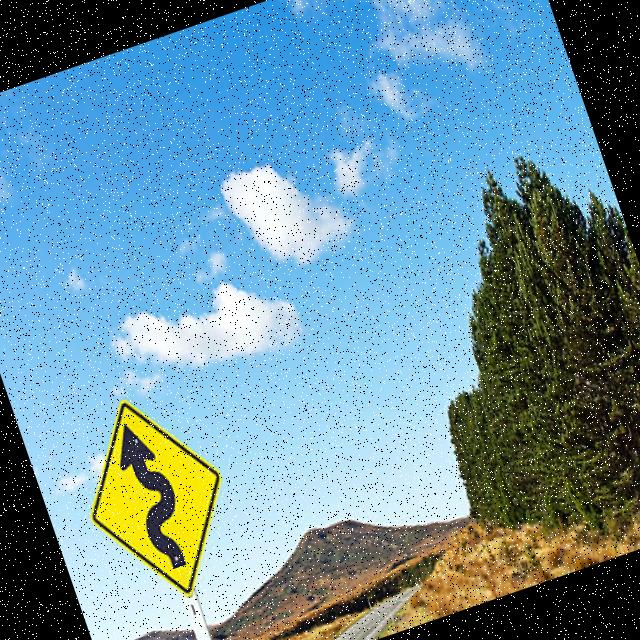left_sharp_curve: (52, 369, 263, 632)
